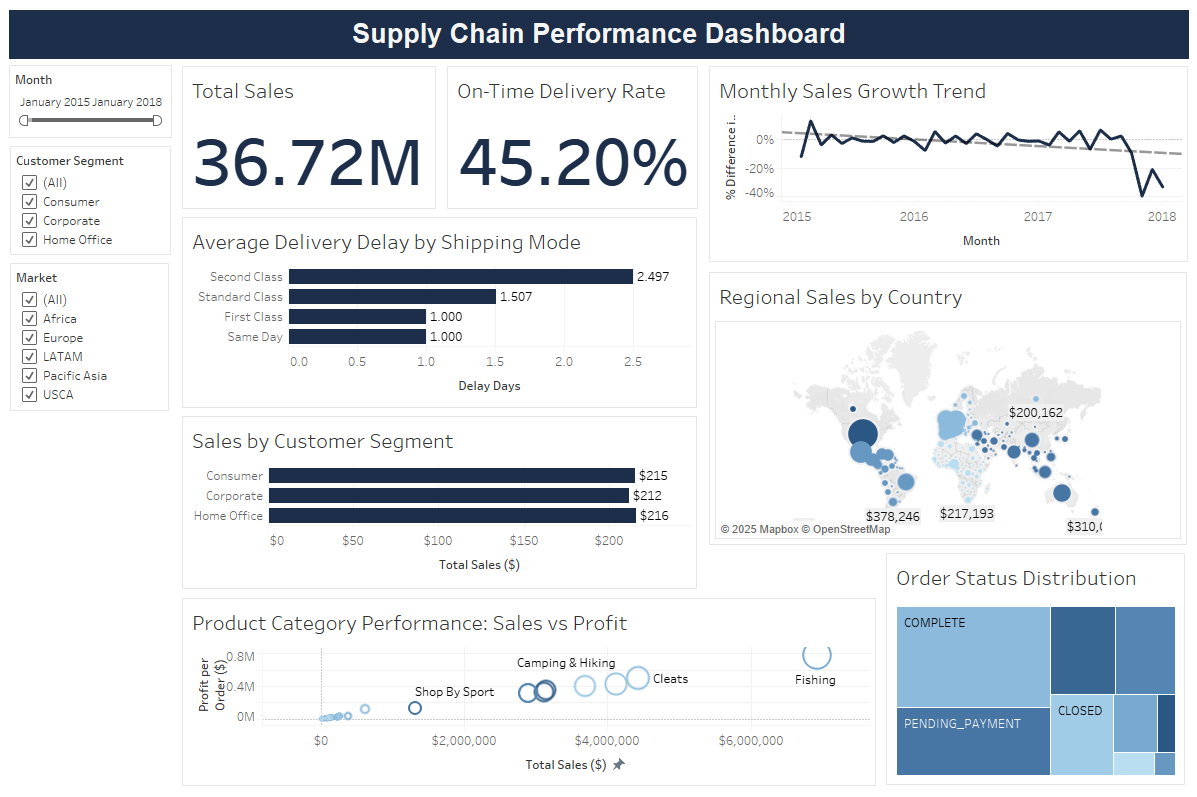

What the dashboard file says about the page in this screenshot:
{"tool":"tableau","page":{"name":"Dashboard 1","canvas":[1200,800],"ordinal":0},"visuals":[{"type":"title","box":[8,8,1184,53]},{"type":"filter","title":"Monthly Sales Growth Trend","param":"[federated.0x9or710sebycz125bpjl1acafwd].[tmn:order_date_dateorders:qk]","box":[10,65,163,73]},{"type":"worksheet","title":"Total Sales","mark":"Automatic","box":[183,66,254,143]},{"type":"worksheet","title":"On-Time Delivery Rate","mark":"Text","box":[448,66,251,143]},{"type":"worksheet","title":"Monthly Sales Growth Trend","mark":"Line","rows":["sales"],"cols":["order_date_dateorders"],"box":[710,66,479,196]},{"type":"filter","title":"Sales by Customer Segment","param":"[federated.0x9or710sebycz125bpjl1acafwd].[none:customer_segment:nk]","box":[11,146,161,109]},{"type":"worksheet","title":"Average Delivery Delay by Shipping Mode","mark":"Bar","rows":["shipping_mode"],"cols":["Calculation_872290953633742849"],"box":[183,217,515,191]},{"type":"filter","title":"Regional Sales by Country","param":"[federated.0x9or710sebycz125bpjl1acafwd].[none:market:nk]","box":[11,263,159,148]},{"type":"worksheet","title":"Regional Sales by Country","mark":"Automatic","box":[710,272,478,273]},{"type":"worksheet","title":"Sales by Customer Segment","mark":"Automatic","rows":["customer_segment"],"cols":["sales"],"box":[183,416,515,173]},{"type":"worksheet","title":"Order Status Distribution","mark":"Square","box":[887,553,299,232]},{"type":"worksheet","title":"Product Category Performance: Sales vs Profit","mark":"Automatic","rows":["benefit_per_order"],"cols":["sales"],"box":[183,598,694,188]}]}

Visuals, with their boxes in screenshot pixels (x1, y1, x2, y2), scaled from the page's 1200x800 canvas onto the 1197x797 screenshot:
title: box=[8, 8, 1189, 61]
"Monthly Sales Growth Trend" filter: box=[10, 65, 173, 137]
"Total Sales" worksheet: box=[183, 66, 436, 208]
"On-Time Delivery Rate" worksheet (Text marks): box=[447, 66, 697, 208]
"Monthly Sales Growth Trend" worksheet (Line marks): box=[708, 66, 1186, 261]
"Sales by Customer Segment" filter: box=[11, 145, 172, 254]
"Average Delivery Delay by Shipping Mode" worksheet (Bar marks): box=[183, 216, 696, 406]
"Regional Sales by Country" filter: box=[11, 262, 170, 409]
"Regional Sales by Country" worksheet: box=[708, 271, 1185, 543]
"Sales by Customer Segment" worksheet: box=[183, 414, 696, 587]
"Order Status Distribution" worksheet (Square marks): box=[885, 551, 1183, 782]
"Product Category Performance: Sales vs Profit" worksheet: box=[183, 596, 875, 783]
